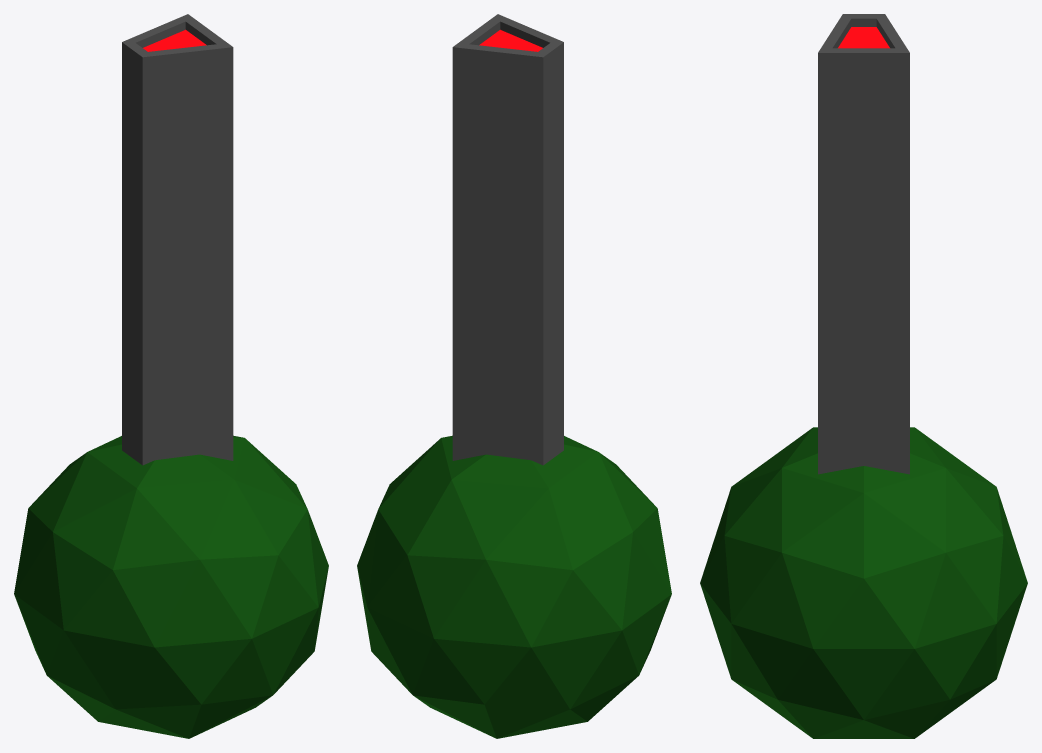
File: Colossus_Laser_Rifle.glb
The picture shows the model from 3 angles, left to right: view 1: azimuth 30°, elevation 25°; view 2: azimuth 150°, elevation 25°; view 3: azimuth 270°, elevation 25°; orthographic projection.
Parts seen in each view (by area): view 1: Icosphere.013; view 2: Icosphere.013; view 3: Icosphere.013.
Part boxes in pixels (x1,y1,x2,y2): Icosphere.013: (14, 14, 328, 738); Icosphere.013: (357, 14, 671, 738); Icosphere.013: (700, 14, 1027, 738).
Bounding box in the file's own units: 1.81 × 4.46 × 1.9.
